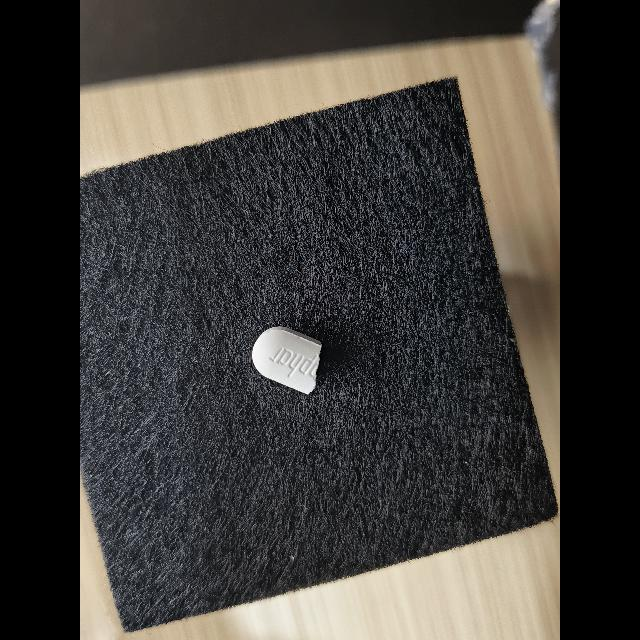Chipped Pill: (252, 326, 322, 395)
